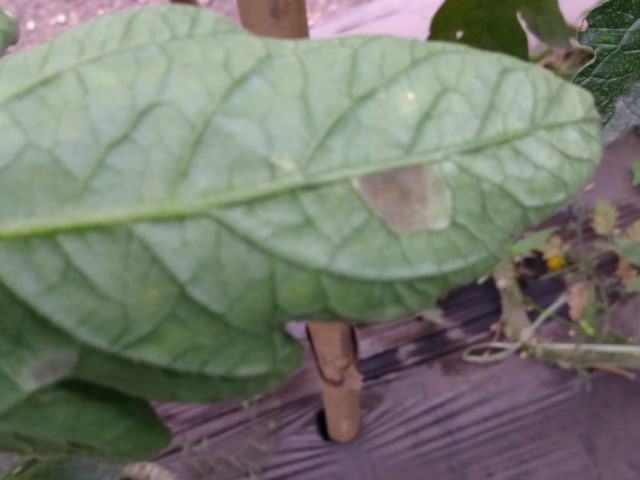cladosporium: (355, 166, 447, 229), (23, 348, 77, 385)
